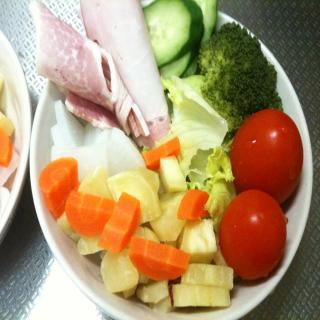Salad: (9, 4, 320, 320), (0, 52, 31, 222)
Tomato: (231, 109, 303, 202), (219, 186, 289, 280)
